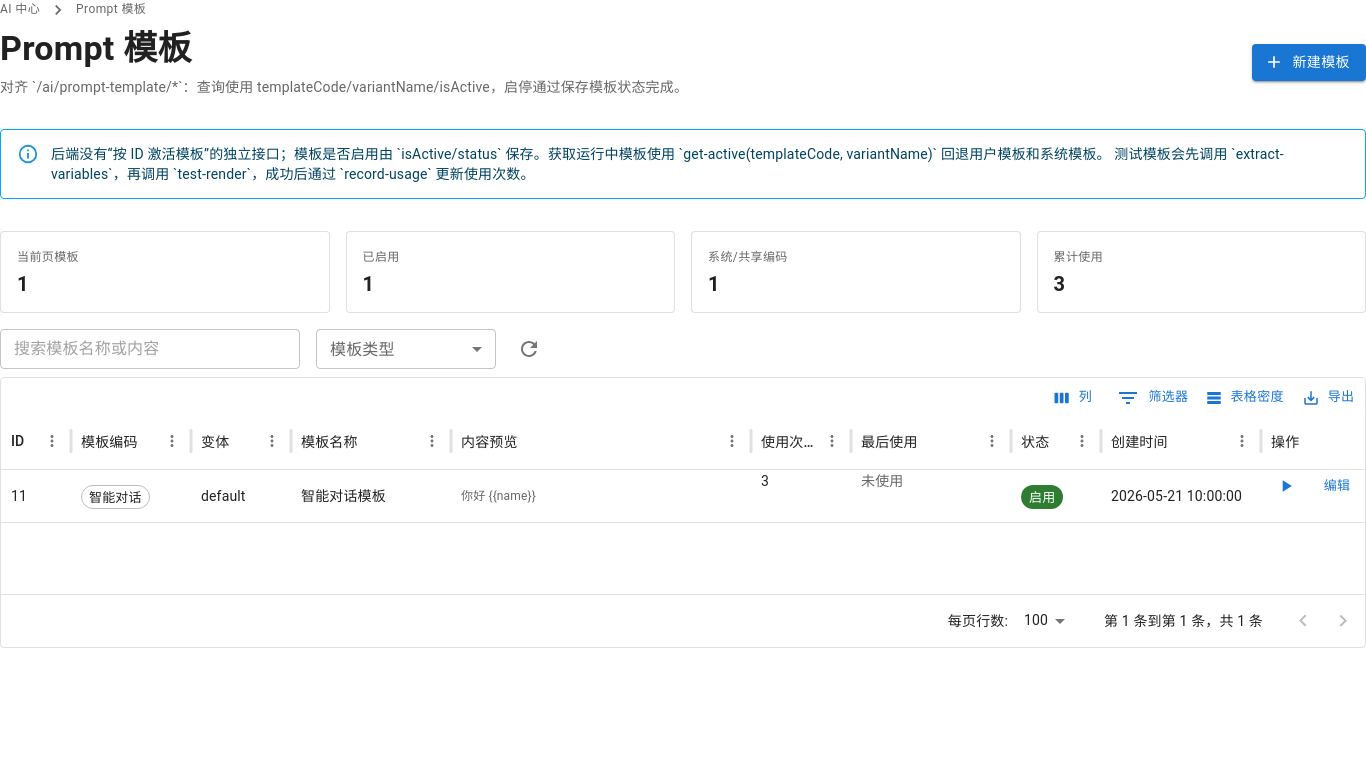
Test: Prompt tools pages › PromptTemplatePage uses templateCode contract and renders preview
Expected: the heading "Prompt 模板" is shown, [0, 28, 192, 68]
Expected: the text "templateCode/variantName/isActive" is shown, [0, 79, 688, 95]
Click the button named "测试模板" at [1286, 486], box [1271, 471, 1301, 502]
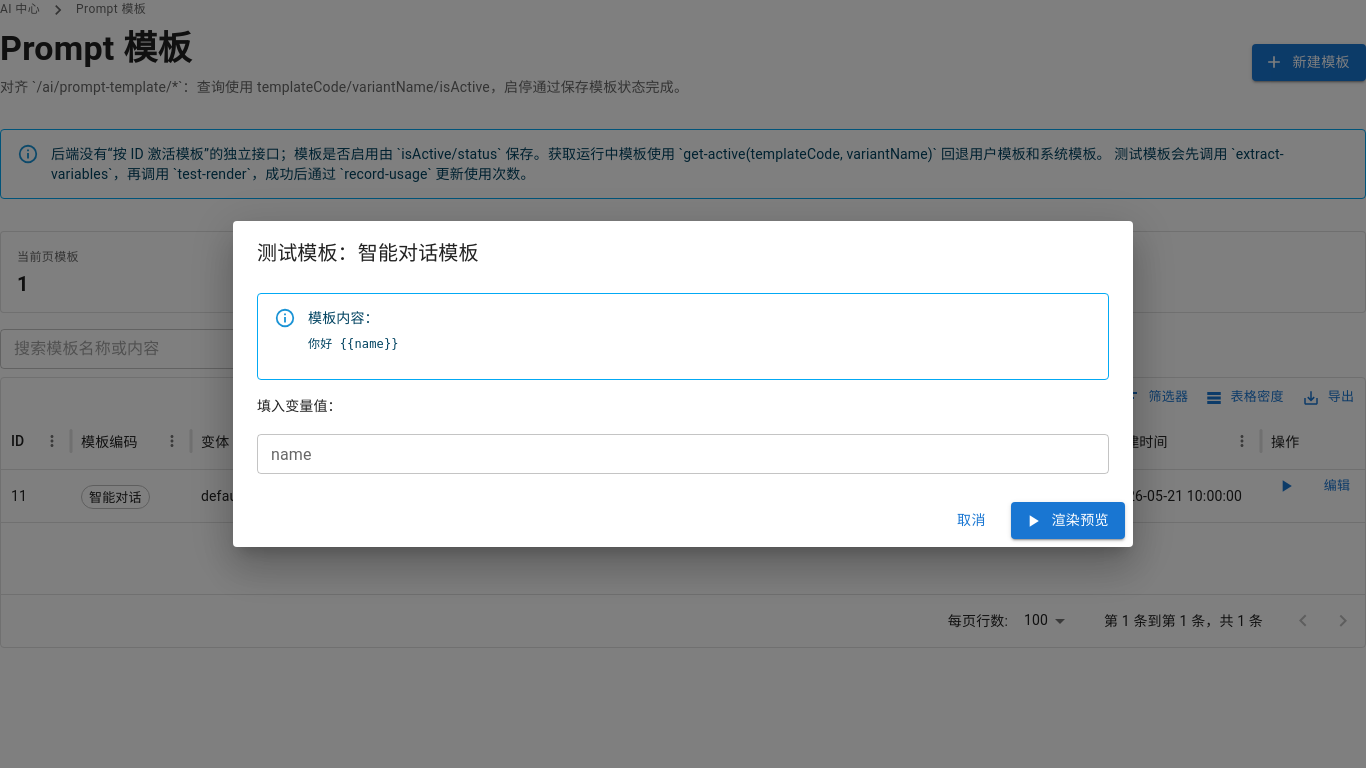
Type "张三" into the field labelled "name" at [683, 454], box [257, 434, 1109, 474]
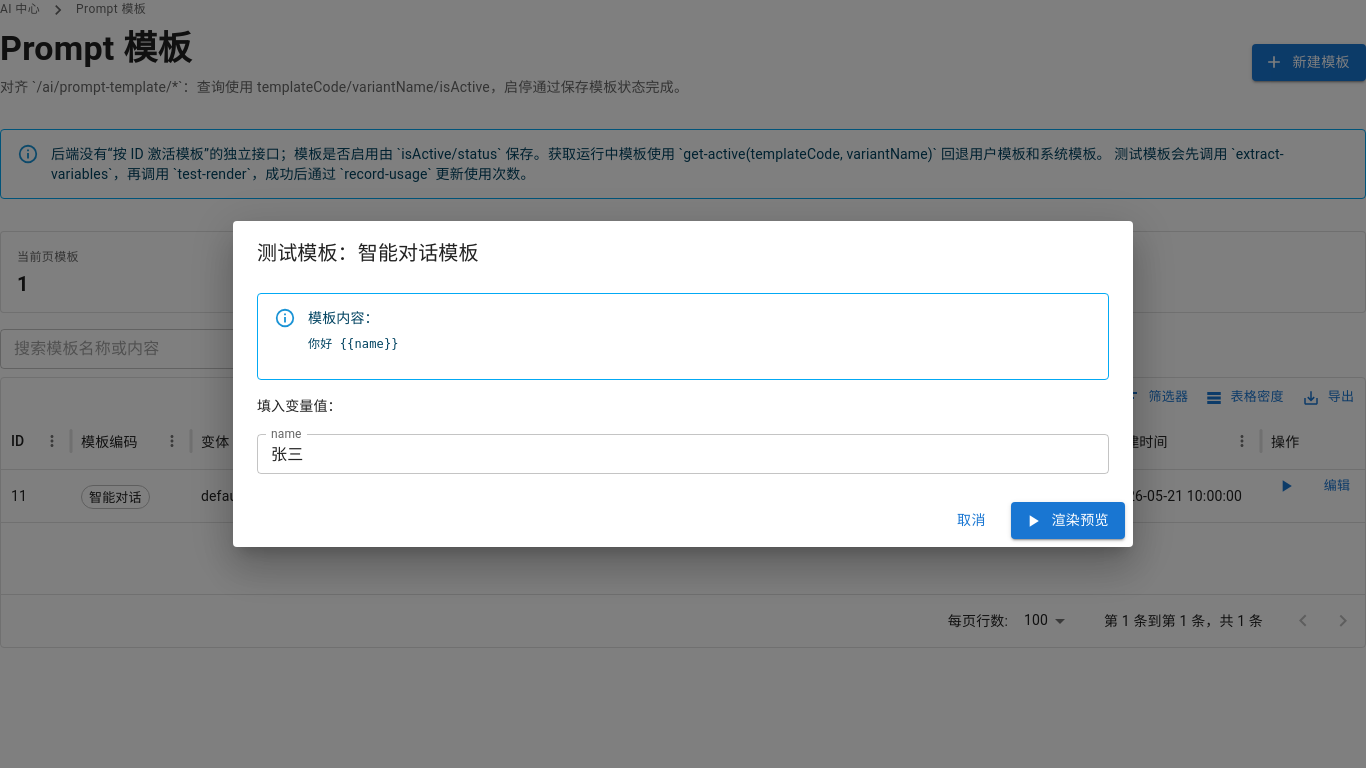
Click the button "渲染预览" at [1068, 521], box [1011, 502, 1125, 539]
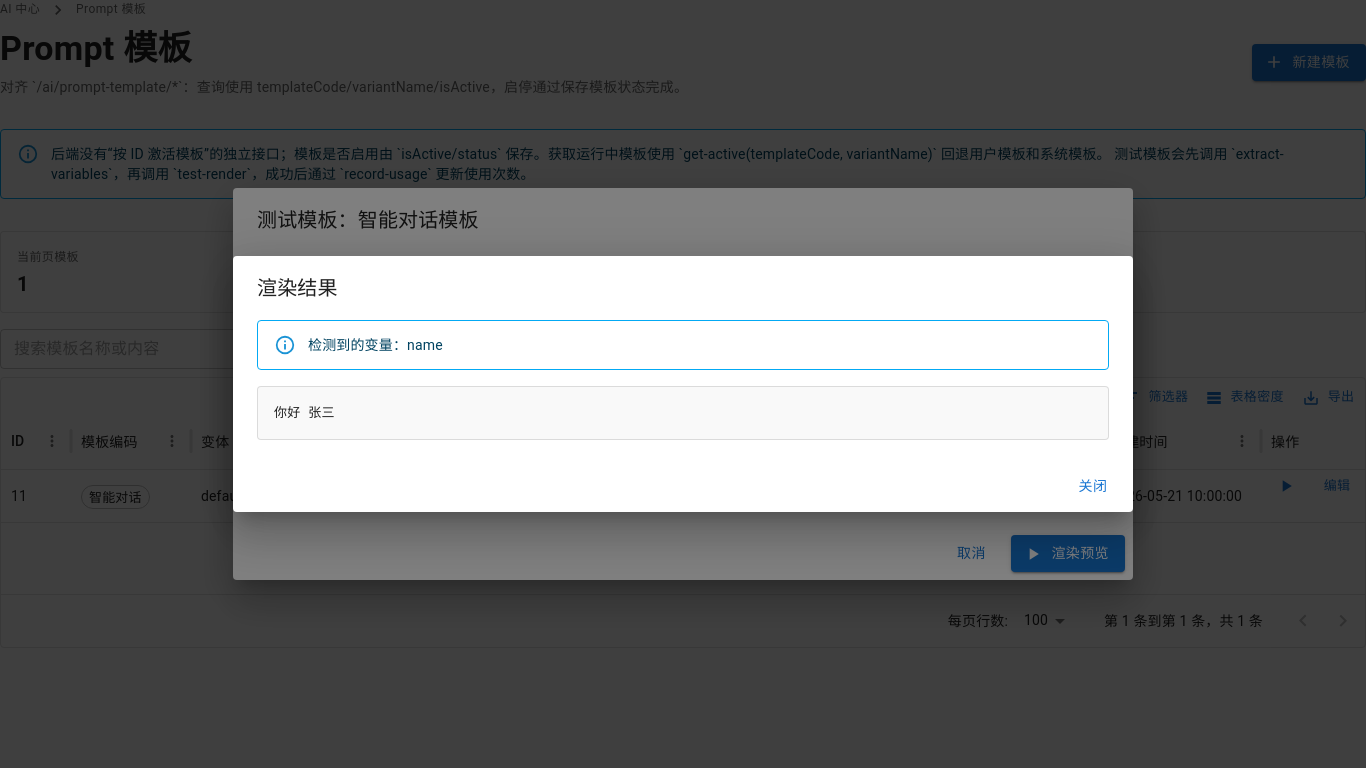
Result: the text "你好 张三" is shown at [257, 386, 1109, 440]
Result: the text "检测到的变量：name" is shown at [308, 337, 443, 353]
